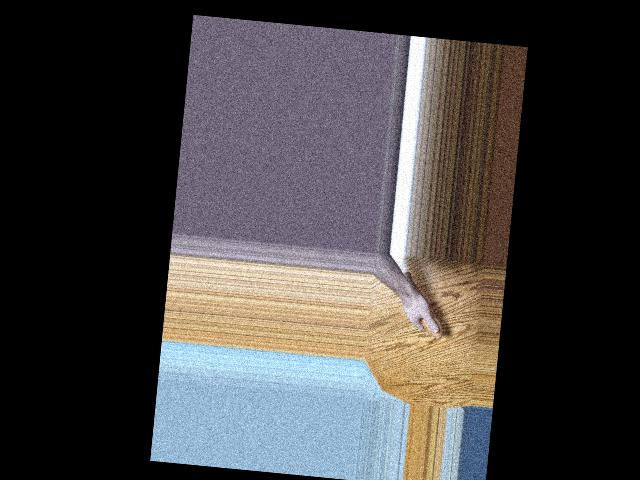sweet_potato: (399, 270, 449, 340)
